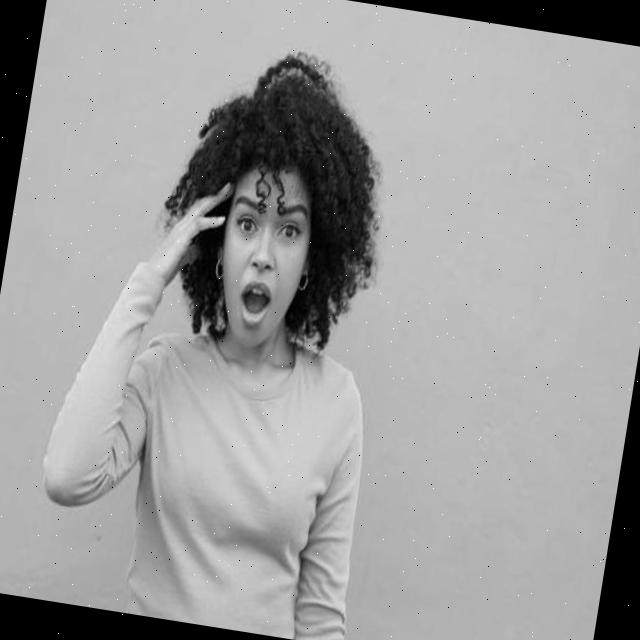Surprised: (214, 170, 314, 350)
